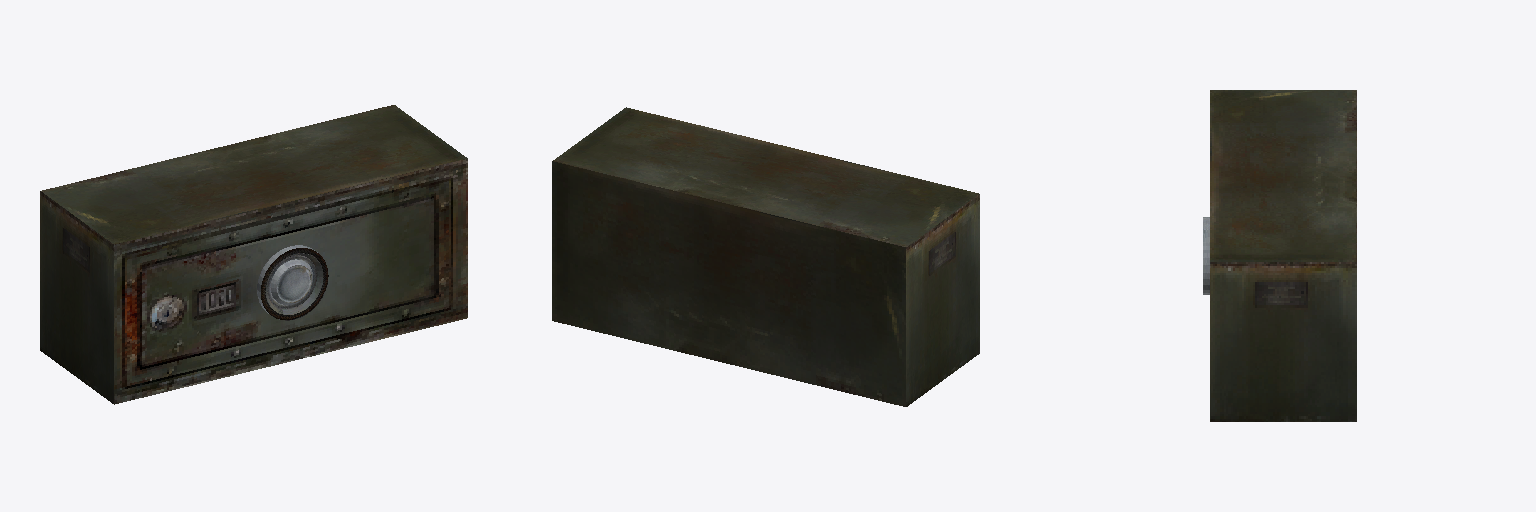
The picture shows the model from 3 angles: view 1: azimuth 30°, elevation 25°; view 2: azimuth 150°, elevation 25°; view 3: azimuth 270°, elevation 25°; orthographic projection.
Visible parts, largest first — view 1: Cube_Cube.001; view 2: Cube_Cube.001; view 3: Cube_Cube.001.
Part boxes in pixels (left/top/right/bottom): Cube_Cube.001: left=40, top=105, right=467, bottom=404; Cube_Cube.001: left=552, top=107, right=979, bottom=406; Cube_Cube.001: left=1203, top=90, right=1356, bottom=421.
Size of the model in its own units: 5 by 2.16 by 1.89.
Materials: 1 (1 with a texture image).